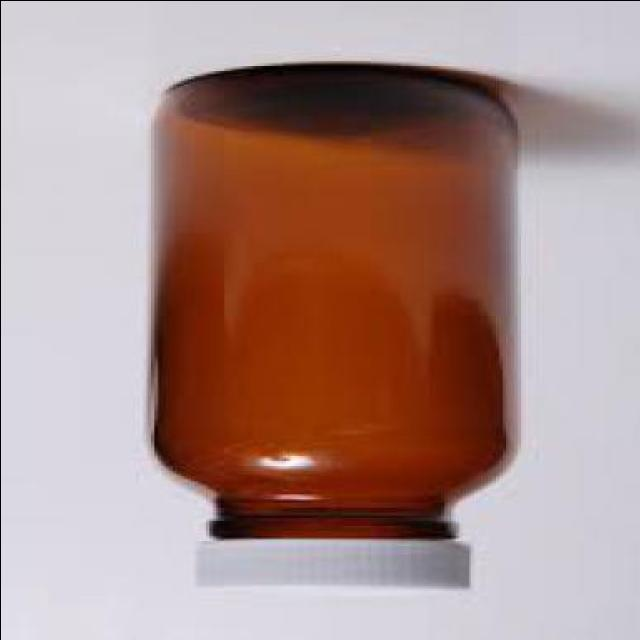kaca: (150, 63, 524, 540)
